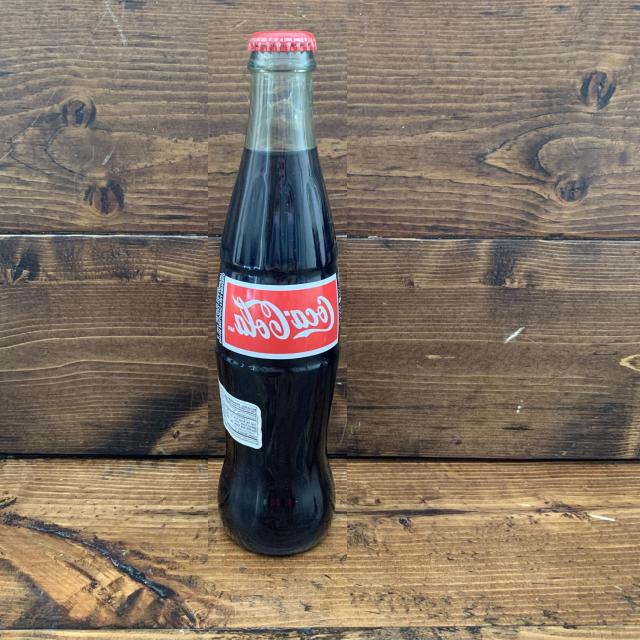coca-cola: (208, 19, 347, 566)
